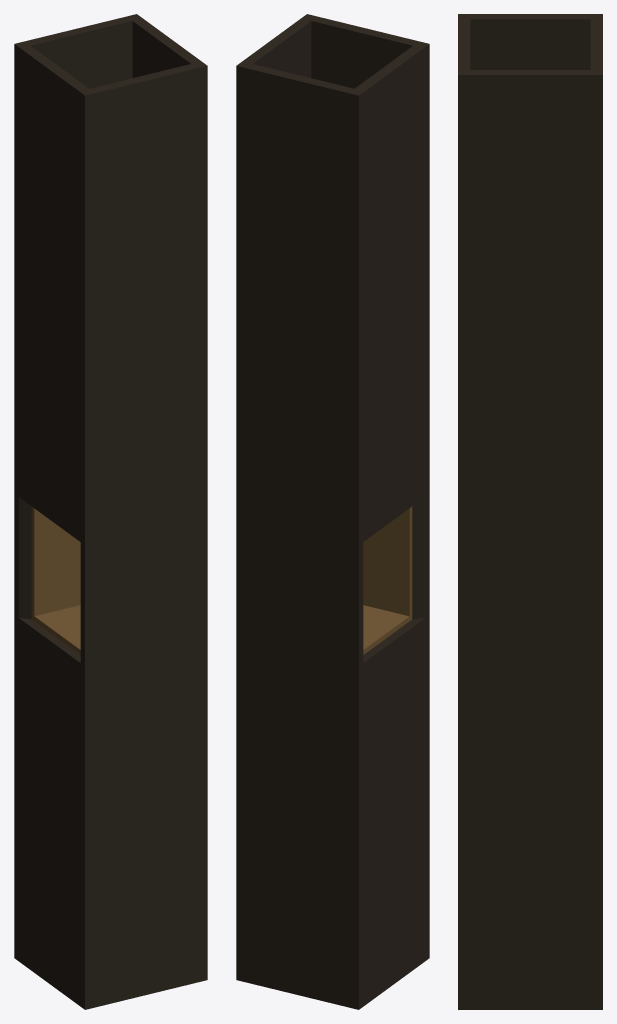
Rendered from Felevador.fbx.
3 renders of one model, left to right at view 1: azimuth 30°, elevation 25°; view 2: azimuth 150°, elevation 25°; view 3: azimuth 270°, elevation 25°, orthographic. The views are drawn at different scales.
Parts seen in each view (by area): view 1: Cube.007, Cube.011; view 2: Cube.007, Cube.011; view 3: Cube.007.
Part boxes in pixels (x1,y1,x2,y2): Cube.007: [14, 14, 207, 1009]; Cube.011: [31, 506, 80, 654]; Cube.007: [236, 14, 429, 1009]; Cube.011: [363, 506, 412, 654]; Cube.007: [458, 14, 602, 1009].
Size of the model in its own units: 0.6421 by 4.58 by 0.6421.
